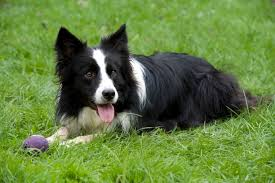dog: (49, 24, 267, 146)
